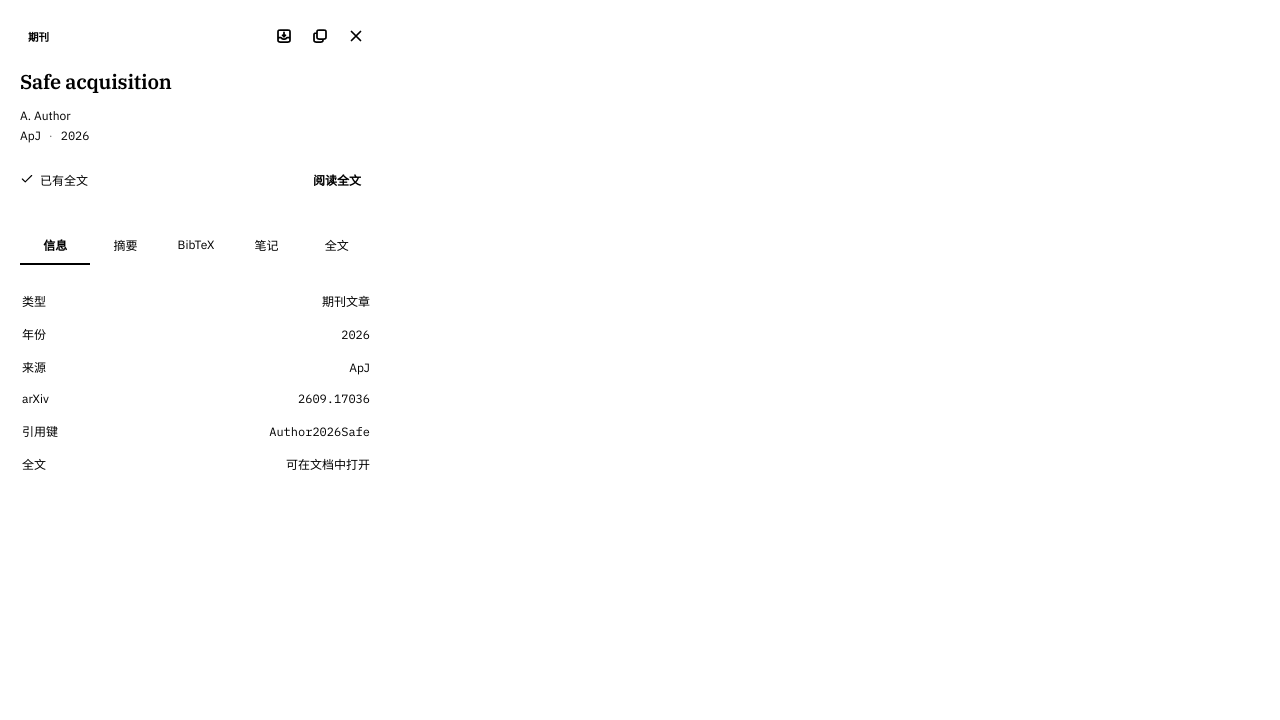
RefDetail full-text acquisition › ignores a late count after switching Work sessions
Click the tab "全文" at (337, 246), box [302,227,372,265]
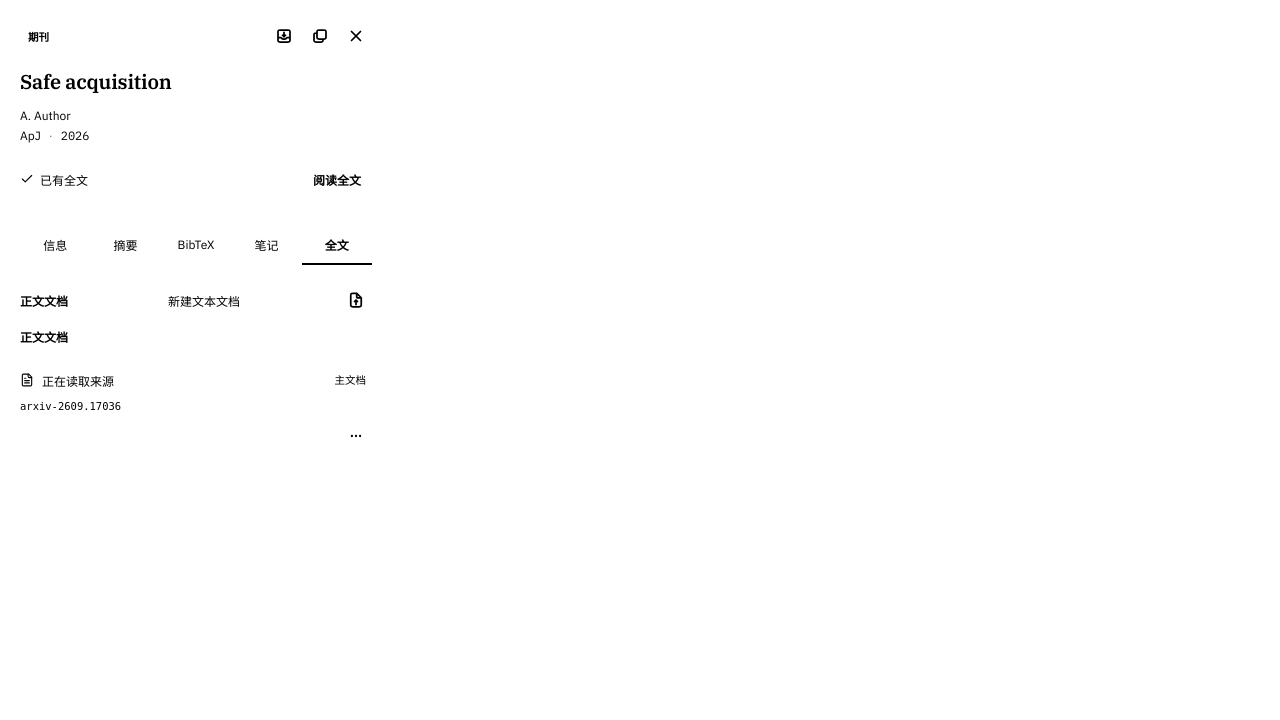
Click the button named "添加 / 更新全文…" at (356, 300), box [340,284,372,316]
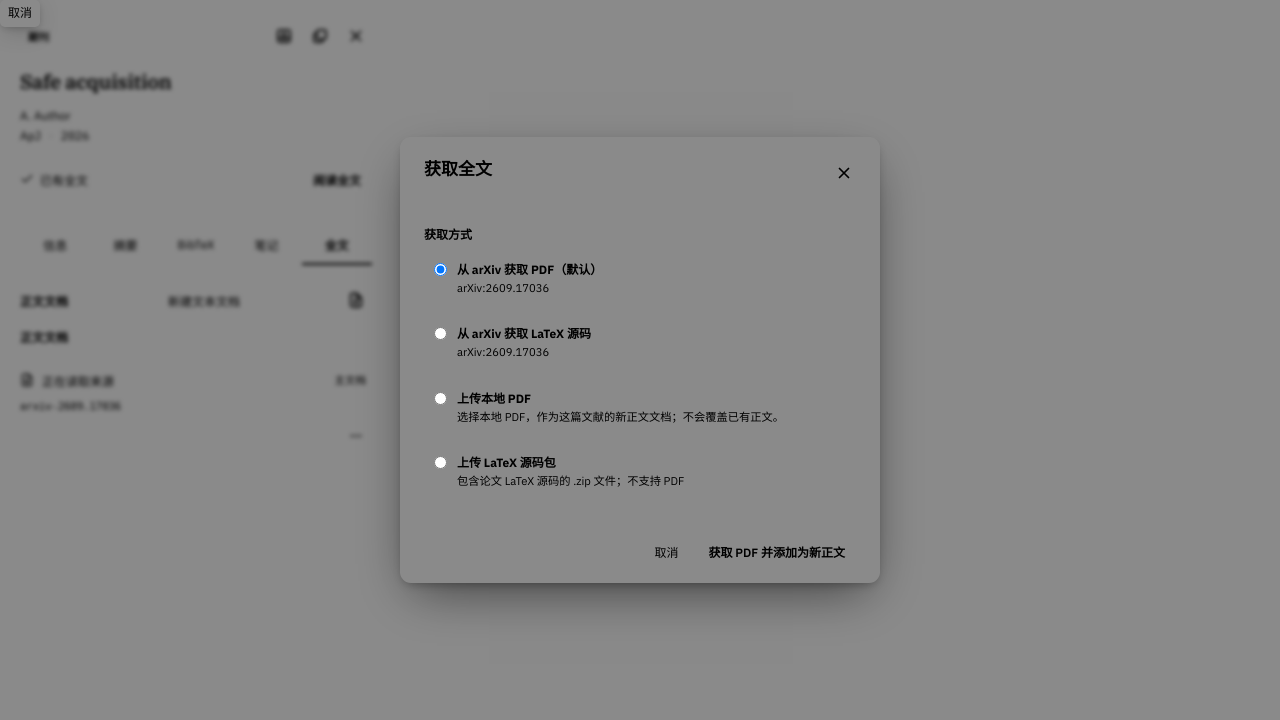
Click the radio button labelled "从 arXiv 获取 LaTeX 源码 arXiv:2609.17036" at (440, 334), box [434,327,447,340]
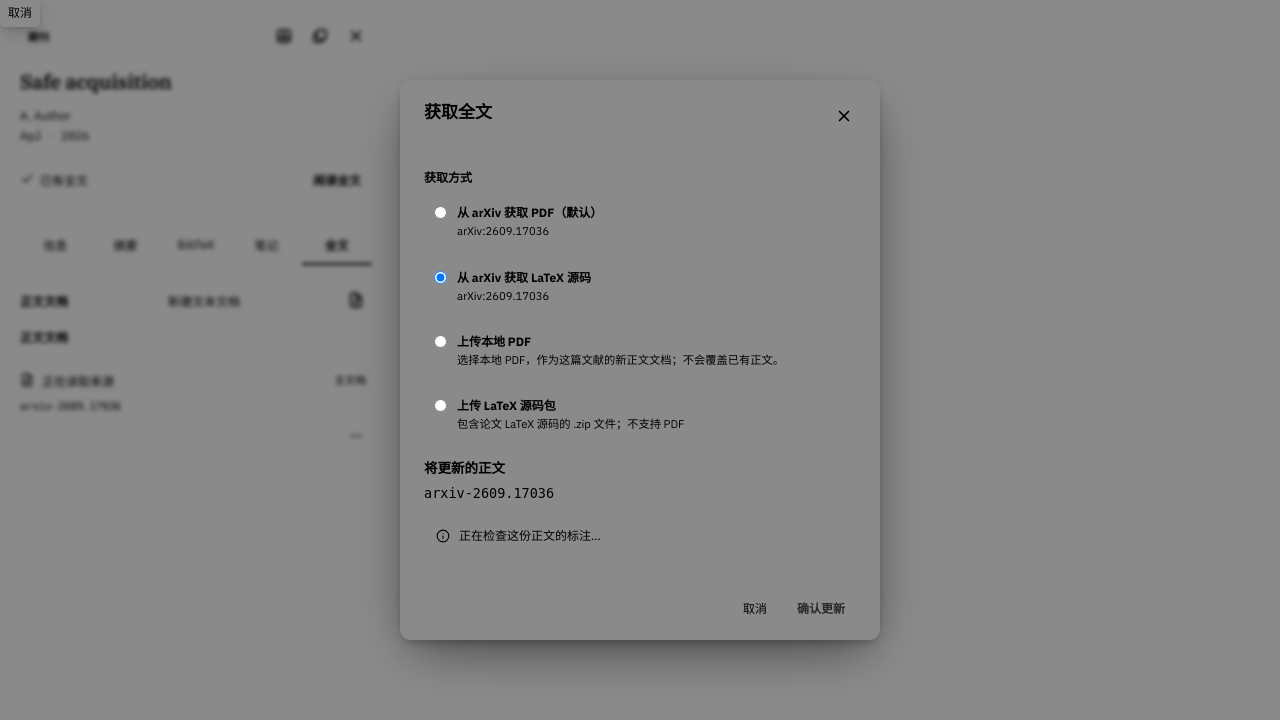
Result: the text "正在检查这份正文的标注…" is shown at [459,526,601,545]
